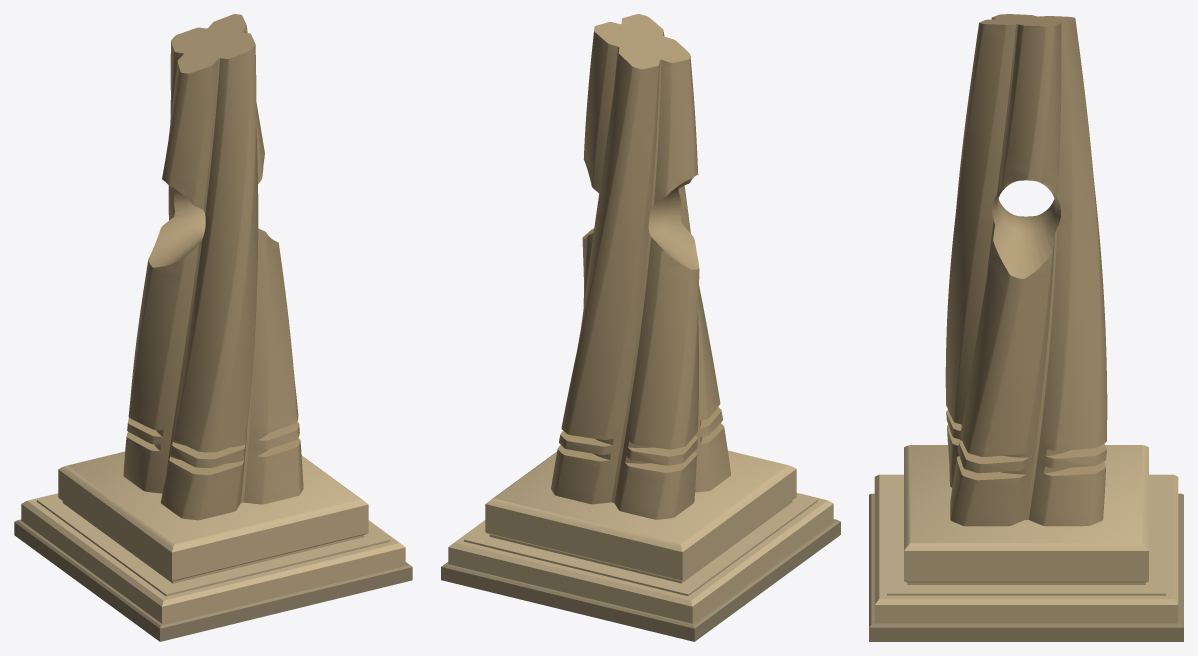
3 renders of one model, left to right at view 1: azimuth 30°, elevation 25°; view 2: azimuth 150°, elevation 25°; view 3: azimuth 270°, elevation 25°, orthographic. The views are drawn at different scales.
Parts seen in each view (by area): view 1: Shaft_Travertine, Plinth_Limestone, Plinth_Weathered; view 2: Shaft_Travertine, Plinth_Limestone, Plinth_Weathered; view 3: Shaft_Travertine, Plinth_Limestone, Plinth_Weathered.
Part boxes in pixels (x1=…): Shaft_Travertine: x1=123, y1=14, x2=303, y2=520; Plinth_Limestone: x1=21, y1=451, x2=405, y2=623; Plinth_Weathered: x1=14, y1=519, x2=412, y2=641; Shaft_Travertine: x1=551, y1=14, x2=730, y2=519; Plinth_Limestone: x1=448, y1=450, x2=833, y2=623; Plinth_Weathered: x1=441, y1=519, x2=840, y2=641; Shaft_Travertine: x1=945, y1=14, x2=1107, y2=526; Plinth_Limestone: x1=874, y1=445, x2=1178, y2=623; Plinth_Weathered: x1=869, y1=493, x2=1183, y2=641.
Size of the model in its own units: 1.4 by 2.79 by 1.4.
